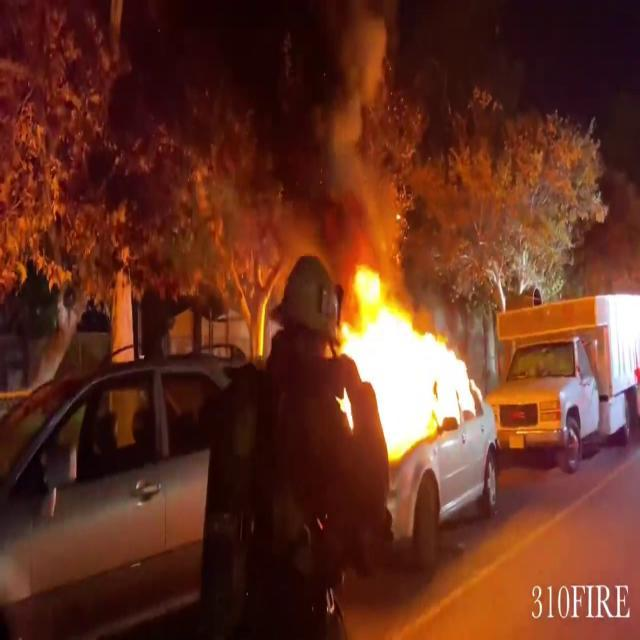Fire: (332, 248, 480, 459)
Smoke: (266, 0, 398, 256)
